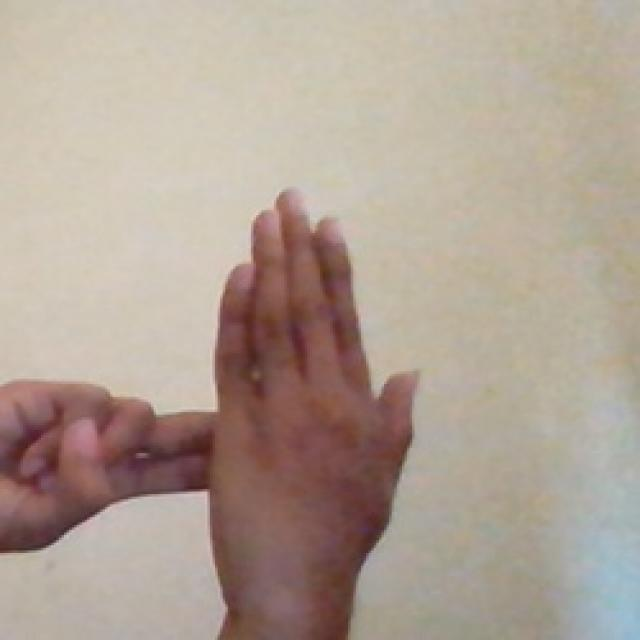Alphabet-N: (0, 174, 426, 634)
